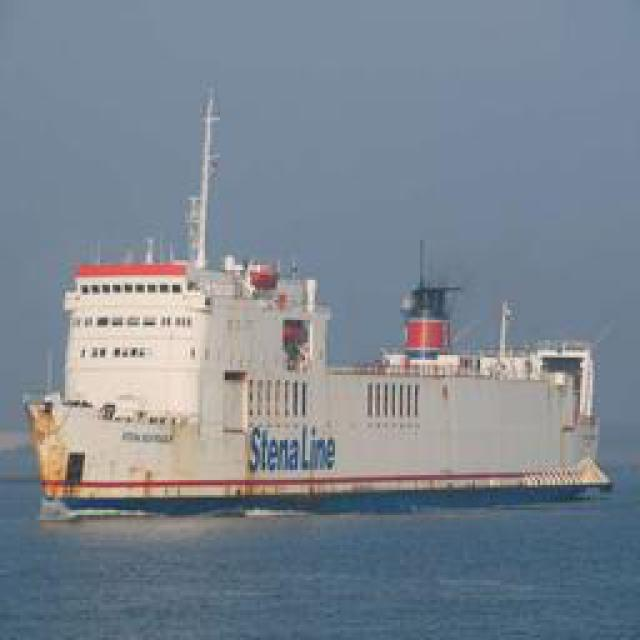Ship: (29, 165, 609, 510)
